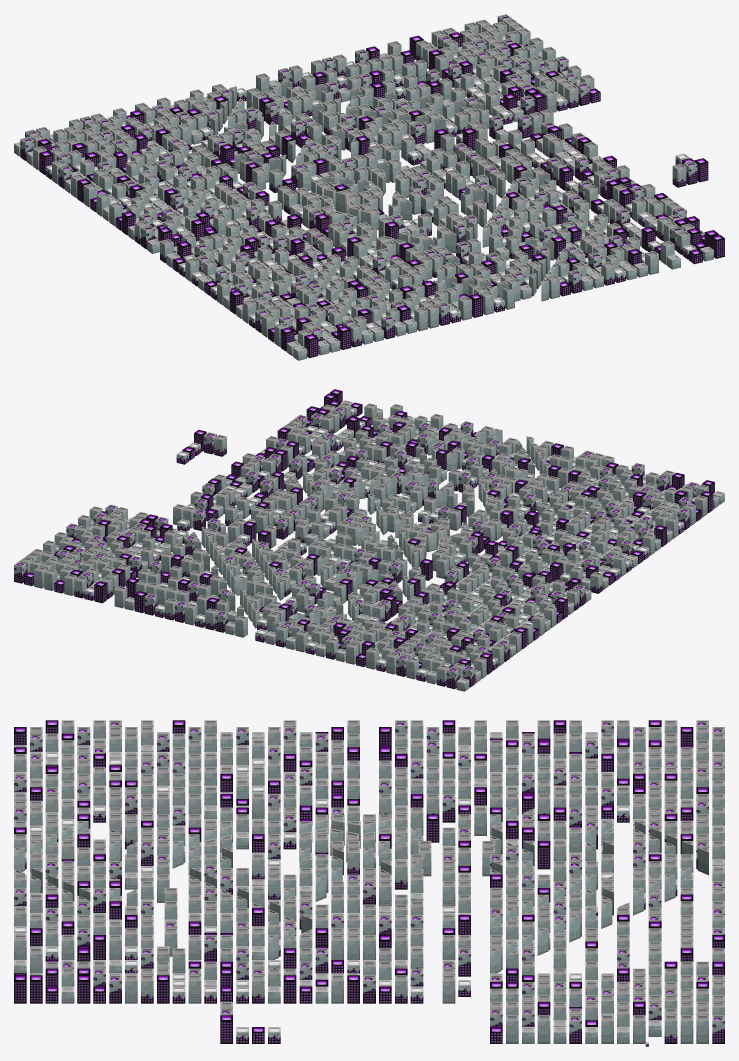
Rendered from world3_buildings.glb.
3 views of the same model, one above another, from view 1: azimuth 30°, elevation 25°; view 2: azimuth 150°, elevation 25°; view 3: azimuth 270°, elevation 25° (orthographic). The views are drawn at different scales.
Visible parts, largest first — view 1: NORMAL.682; view 2: NORMAL.682; view 3: NORMAL.682.
Boxes of the visible parts, bbox=[...] form: NORMAL.682: bbox=[14, 14, 724, 360]; NORMAL.682: bbox=[14, 389, 724, 691]; NORMAL.682: bbox=[14, 720, 724, 1046].
Size of the model in its own units: 450 by 16.97 by 448.
12 materials, 12 textured.
